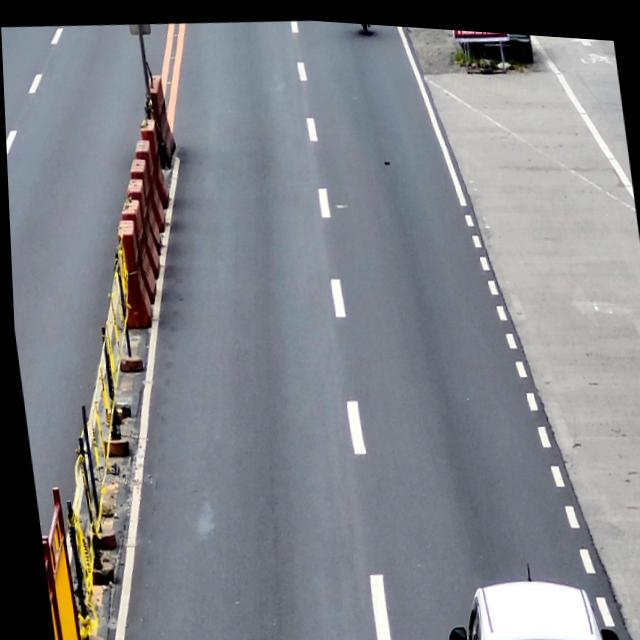Car: (436, 563, 617, 640)
